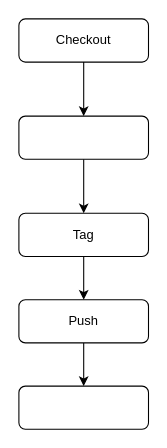
The diagram is 167 pixels wide and 448 high, and some of its shapes have lost their labels. Here are the shapes that lost their labels. From the top down, the centre of each, then its label:
At (83,137): "Build".
At (83,407): "Notification".
